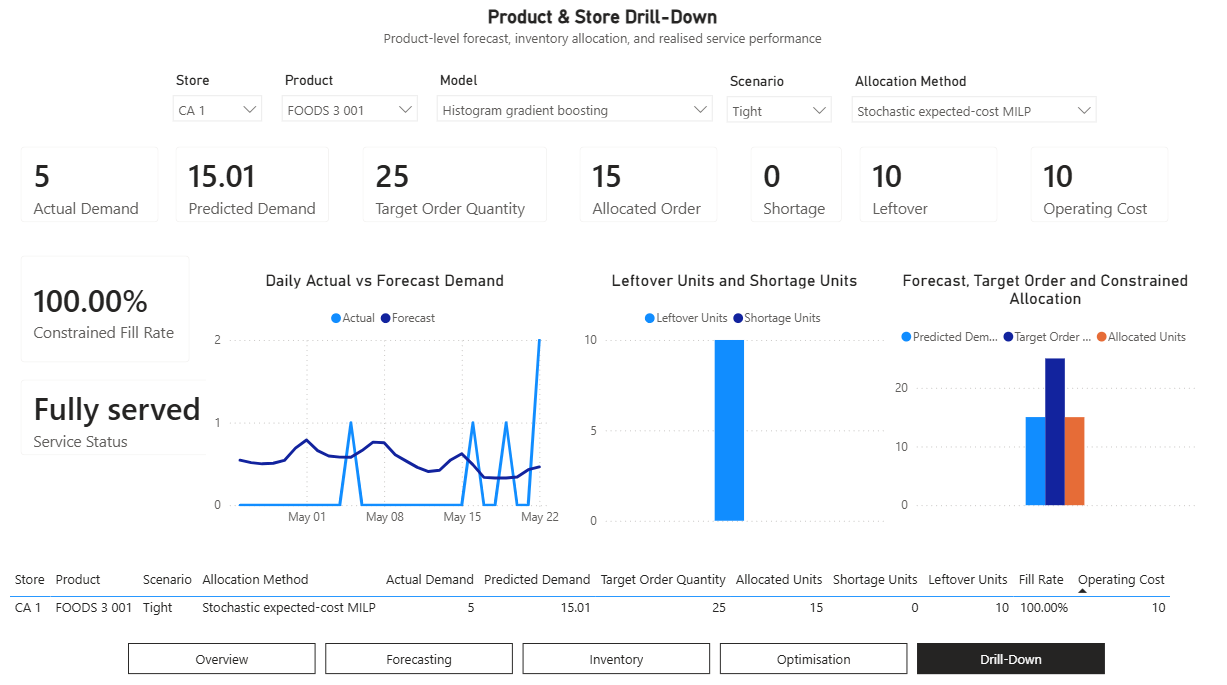

What the dashboard file says about the page in this screenshot:
{"tool":"powerbi","page":{"name":"Drill-Down","canvas":[1280,720],"ordinal":4},"visuals":[{"type":"textbox","title":"Product & Store Drill-Down","box":[368,16,528,48],"z":0},{"type":"slicer","fields":{"Values":["dim_store.store_name"]},"box":[179.7,80.4,112,64],"z":1000},{"type":"slicer","fields":{"Values":["dim_item.item_name"]},"box":[291.7,80.4,160,64],"z":2000},{"type":"slicer","fields":{"Values":["dim_model.model_name"]},"box":[451.7,80.4,304,64],"z":3000},{"type":"slicer","fields":{"Values":["dim_constraint_scenario.scenario_name"]},"box":[750.5,81.5,128,64],"z":4000},{"type":"slicer","fields":{"Values":["dim_allocation_method.allocation_method_name"]},"box":[878.5,81.5,272,64],"z":5000},{"type":"cardVisual","fields":{"Data":["KPI Measures.Actual Horizon Demand"]},"box":[16,144,176,112],"z":6000},{"type":"cardVisual","fields":{"Data":["KPI Measures.Predicted Demand"]},"box":[176,144,192,112],"z":7000},{"type":"cardVisual","fields":{"Data":["KPI Measures.Target Order Quantity"]},"box":[368,144,224,112],"z":8000},{"type":"cardVisual","fields":{"Data":["KPI Measures.Allocated Units"]},"box":[592,144,176,112],"z":9000},{"type":"cardVisual","fields":{"Data":["KPI Measures.Constrained Shortage Units"]},"box":[768,144,128,112],"z":10000},{"type":"cardVisual","fields":{"Data":["KPI Measures.Constrained Leftover Units"]},"box":[880,144,176,112],"z":11000},{"type":"cardVisual","fields":{"Data":["KPI Measures.Constrained Fill Rate"]},"box":[16,256,208,144],"z":12000},{"type":"cardVisual","fields":{"Data":["KPI Measures.Service Status"]},"box":[16,384,240,112],"z":13000},{"type":"lineChart","title":"Daily Actual vs Forecast Demand","fields":{"Category":["dim_date.date"],"Y":["KPI Measures.Actual Demand","KPI Measures.Predicted Demand"]},"box":[224,288,368,272],"z":14000},{"type":"lineClusteredColumnComboChart","title":"Forecast, Target Order and Constrained Allocation","fields":{"Y":["KPI Measures.Predicted Demand","KPI Measures.Target Order Quantity","KPI Measures.Allocated Units"]},"box":[928,288,320,256],"z":15000},{"type":"lineClusteredColumnComboChart","fields":{"Y":["KPI Measures.Constrained Leftover Units","KPI Measures.Constrained Shortage Units"]},"box":[608,288,320,272],"z":16000},{"type":"tableEx","fields":{"Values":["dim_store.store_name","dim_item.item_name","dim_constraint_scenario.scenario_name","dim_allocation_method.allocation_method_name","KPI Measures.Actual Horizon Demand","KPI Measures.Predicted Demand","KPI Measures.Target Order Quantity","KPI Measures.Allocated Units","KPI Measures.Constrained Shortage Units","KPI Measures.Constrained Leftover Units","KPI Measures.Constrained Fill Rate","KPI Measures.Constrained Operating Cost"]},"box":[16,592,1248,80],"z":17000},{"type":"cardVisual","fields":{"Data":["KPI Measures.Constrained Operating Cost"]},"box":[1056,144,176,112],"z":18000},{"type":"pageNavigator","box":[144,672,1008,32],"z":18001}]}

Visuals, with their boxes in screenshot pixels (x1, y1, x2, y2), scaled from the page's 1280x720 canvas onto the 1227x685 screenshot:
"Product & Store Drill-Down" textbox: locate(353, 15, 859, 61)
slicer - dim_store.store_name: locate(172, 76, 280, 137)
slicer - dim_item.item_name: locate(280, 76, 433, 137)
slicer - dim_model.model_name: locate(433, 76, 724, 137)
slicer - dim_constraint_scenario.scenario_name: locate(719, 78, 842, 138)
slicer - dim_allocation_method.allocation_method_name: locate(842, 78, 1103, 138)
cardVisual - KPI Measures.Actual Horizon Demand: locate(15, 137, 184, 244)
cardVisual - KPI Measures.Predicted Demand: locate(169, 137, 353, 244)
cardVisual - KPI Measures.Target Order Quantity: locate(353, 137, 567, 244)
cardVisual - KPI Measures.Allocated Units: locate(567, 137, 736, 244)
cardVisual - KPI Measures.Constrained Shortage Units: locate(736, 137, 859, 244)
cardVisual - KPI Measures.Constrained Leftover Units: locate(844, 137, 1012, 244)
cardVisual - KPI Measures.Constrained Fill Rate: locate(15, 244, 215, 381)
cardVisual - KPI Measures.Service Status: locate(15, 365, 245, 472)
"Daily Actual vs Forecast Demand" lineChart: locate(215, 274, 567, 533)
"Forecast, Target Order and Constrained Allocation" lineClusteredColumnComboChart: locate(890, 274, 1196, 518)
lineClusteredColumnComboChart - KPI Measures.Constrained Leftover Units x KPI Measures.Constrained Shortage Units: locate(583, 274, 890, 533)
tableEx - dim_store.store_name x dim_item.item_name: locate(15, 563, 1212, 639)
cardVisual - KPI Measures.Constrained Operating Cost: locate(1012, 137, 1181, 244)
pageNavigator: locate(138, 639, 1104, 670)
